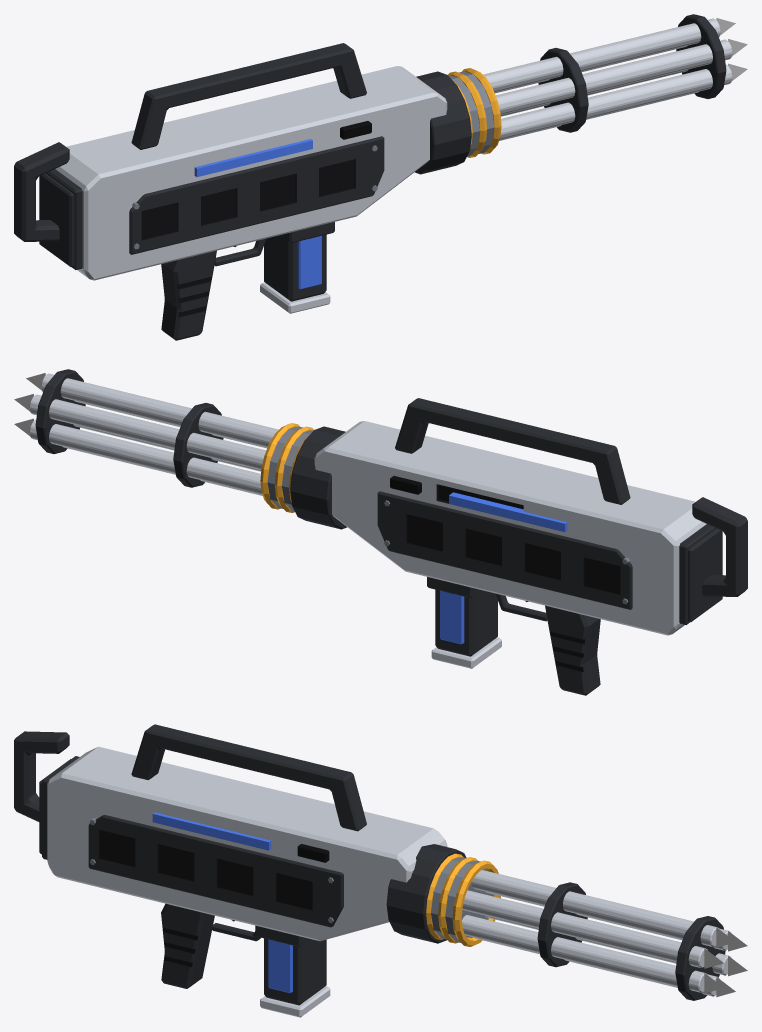
File: plasma_minigun42.obj
The picture shows the model from 3 angles, top to bottom: view 1: azimuth 30°, elevation 25°; view 2: azimuth 150°, elevation 25°; view 3: azimuth 330°, elevation 25°; orthographic projection.
Visible parts, largest first — view 1: body, cluster, mag; view 2: body, cluster, mag; view 3: body, cluster, mag.
Part boxes in pixels (box(x1,y1,x2,y2)): body: box(14, 43, 501, 340); cluster: box(448, 14, 732, 156); mag: box(260, 234, 330, 313); body: box(260, 398, 747, 695); cluster: box(29, 369, 313, 511); mag: box(431, 589, 501, 668); body: box(14, 724, 500, 988); cluster: box(431, 857, 731, 1000); mag: box(260, 938, 330, 1017).
Size of the model in its own units: 0.7509 by 0.247 by 0.0874.
